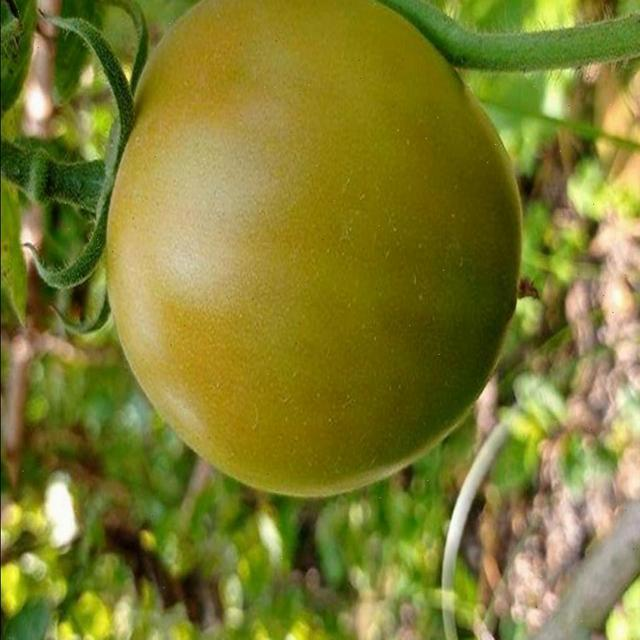Healthy Fruit: (48, 0, 357, 337)
